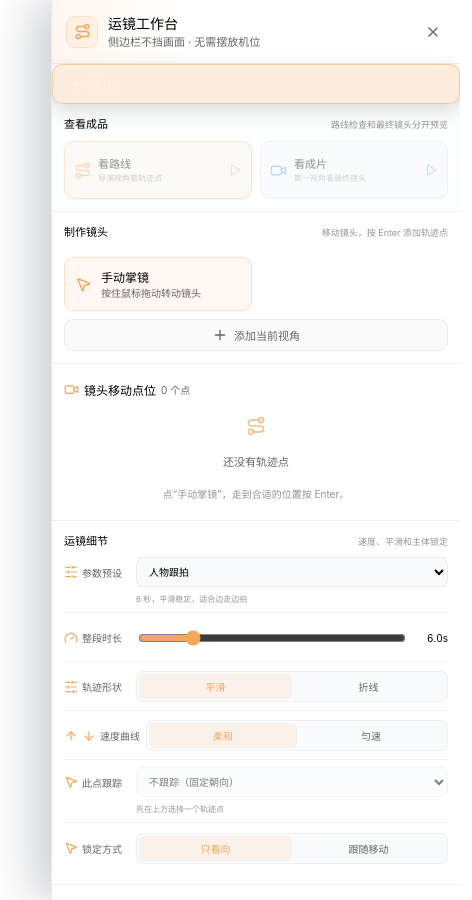
Test: shows a reference video export entry
Click the button with aria-label "导出运镜" at (76, 84), box 52,64 -> 460,104
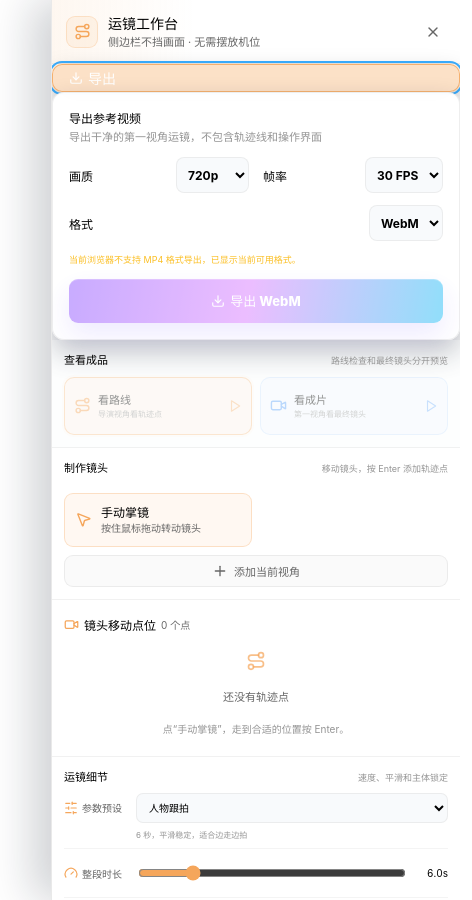
Result: the element named "导出运镜设置" is shown at 52,92 -> 460,340
Result: the dropdown named "参考视频画质" shows "720p" at 176,158 -> 249,194
Result: the dropdown named "参考视频帧率" shows "30 FPS" at 365,158 -> 443,194
